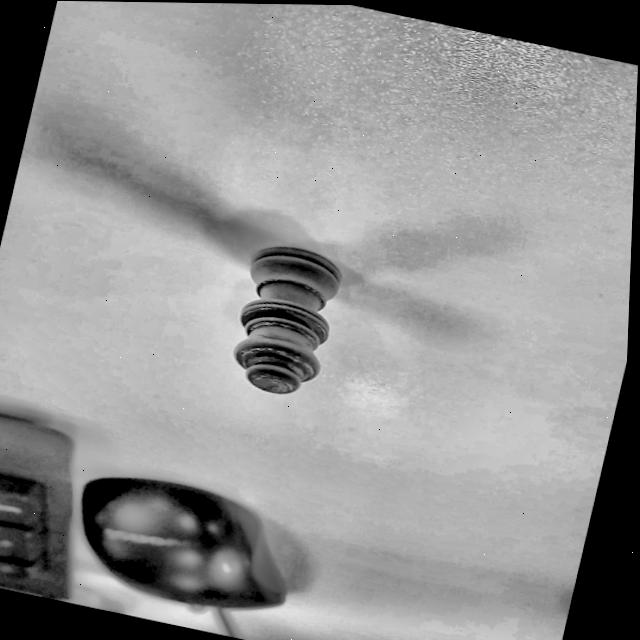black-queen: (212, 231, 365, 411)
